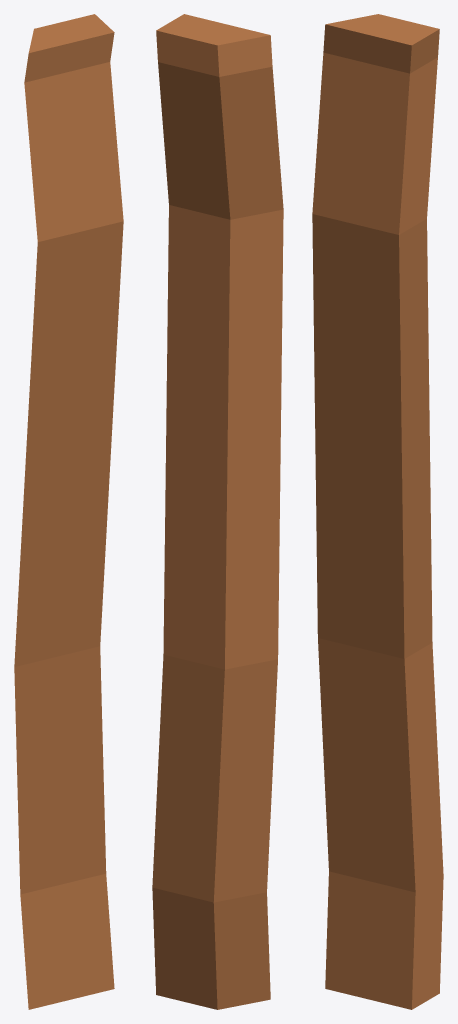
File: lacune.fbx_WoodBeamMed.fbx
3 views of the same model, side by side, from view 1: azimuth 30°, elevation 25°; view 2: azimuth 150°, elevation 25°; view 3: azimuth 330°, elevation 25° (orthographic).
Parts seen in each view (by area): view 1: WoodBeamMed; view 2: WoodBeamMed; view 3: WoodBeamMed.
Boxes of the visible parts, x1,y1,x2,y2 form: WoodBeamMed: (14,14,123,1009); WoodBeamMed: (152,14,283,1009); WoodBeamMed: (312,14,443,1009).
Size of what is drawn, in the model's own units: 10.24 by 92.92 by 7.16.
